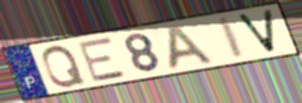8: (124, 32, 163, 73)
A: (167, 23, 217, 73)
E: (76, 36, 129, 84)
I: (216, 15, 247, 60)
Q: (40, 44, 88, 89)
V: (234, 8, 278, 55)
